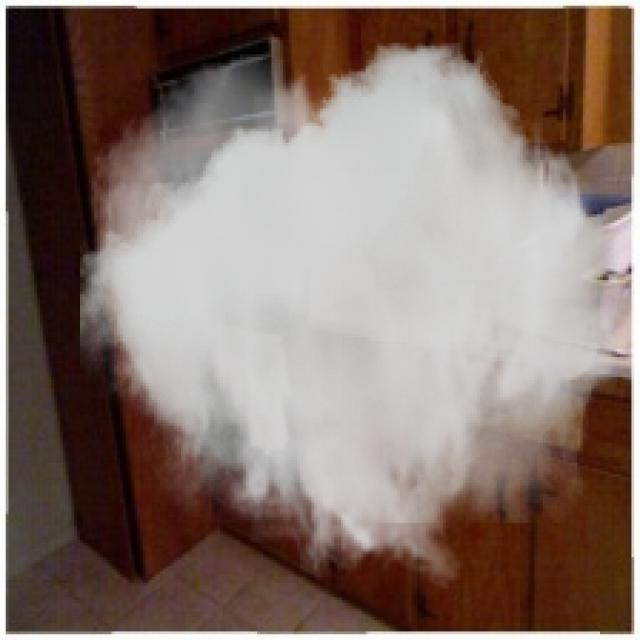smoke: (80, 43, 626, 591)
